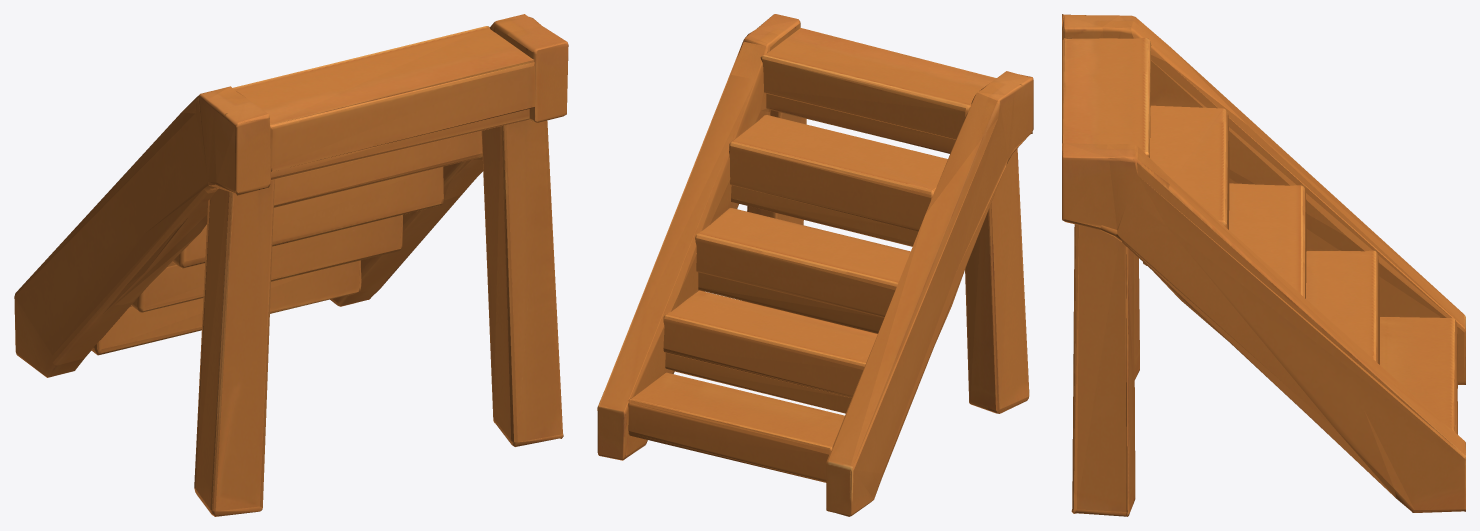
The model's file is stairs.glb.
3 renders of one model, left to right at view 1: azimuth 30°, elevation 25°; view 2: azimuth 150°, elevation 25°; view 3: azimuth 270°, elevation 25°, orthographic. The views are drawn at different scales.
Bounding box in the file's own units: 2.4 × 2.65 × 2.7.
Materials: 1 (1 with a texture image).
